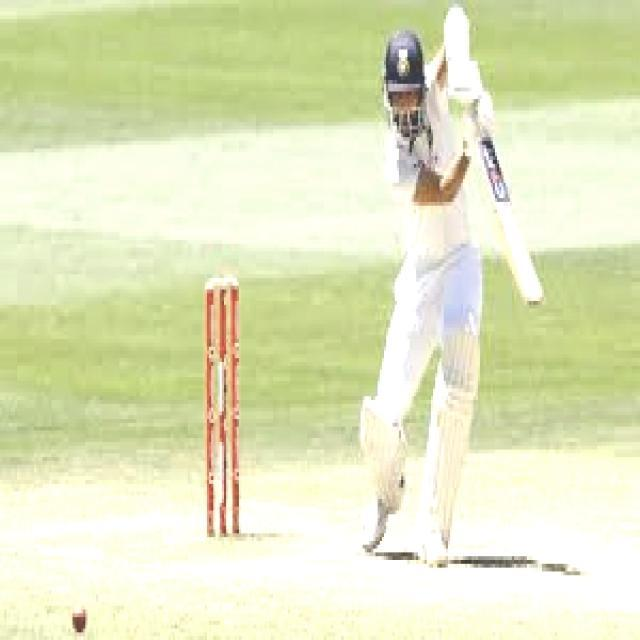bat: (478, 132, 548, 311)
toe: (516, 295, 553, 308)
